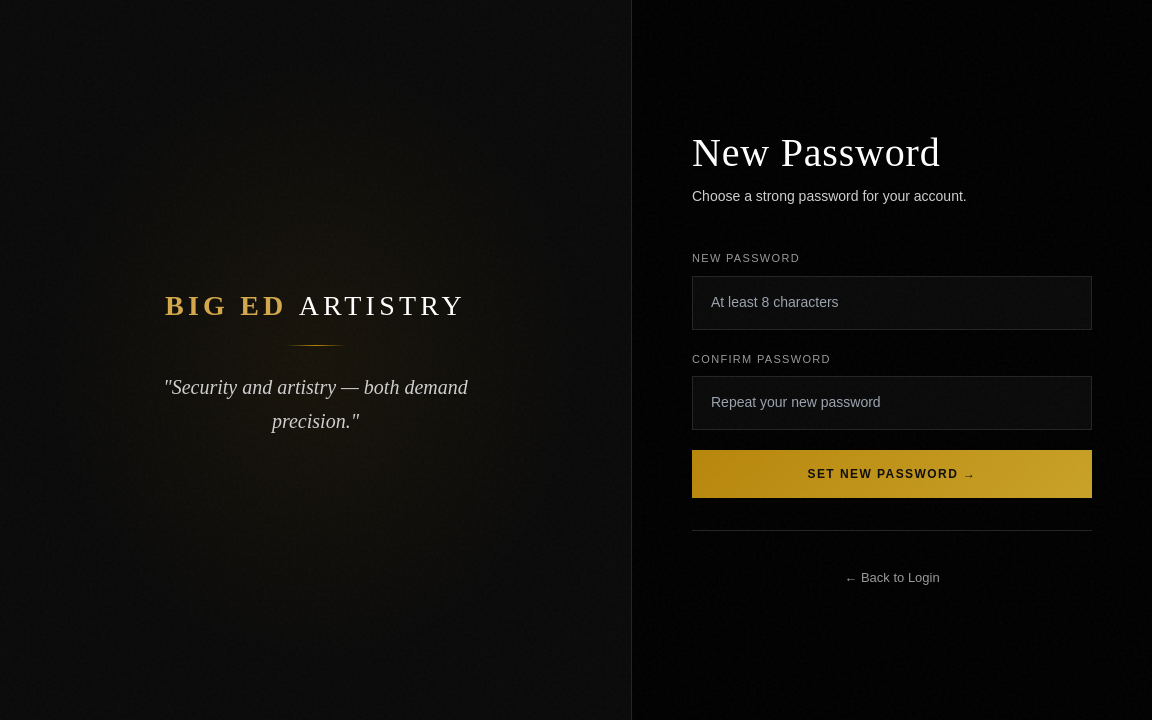
Test: password reset form › shows error when submitting empty fields
Expected: the password field with placeholder "At least 8 characters" is shown, [692,276,1092,330]
Click the button "Set New Password →" at (892, 474), box [692,450,1092,498]
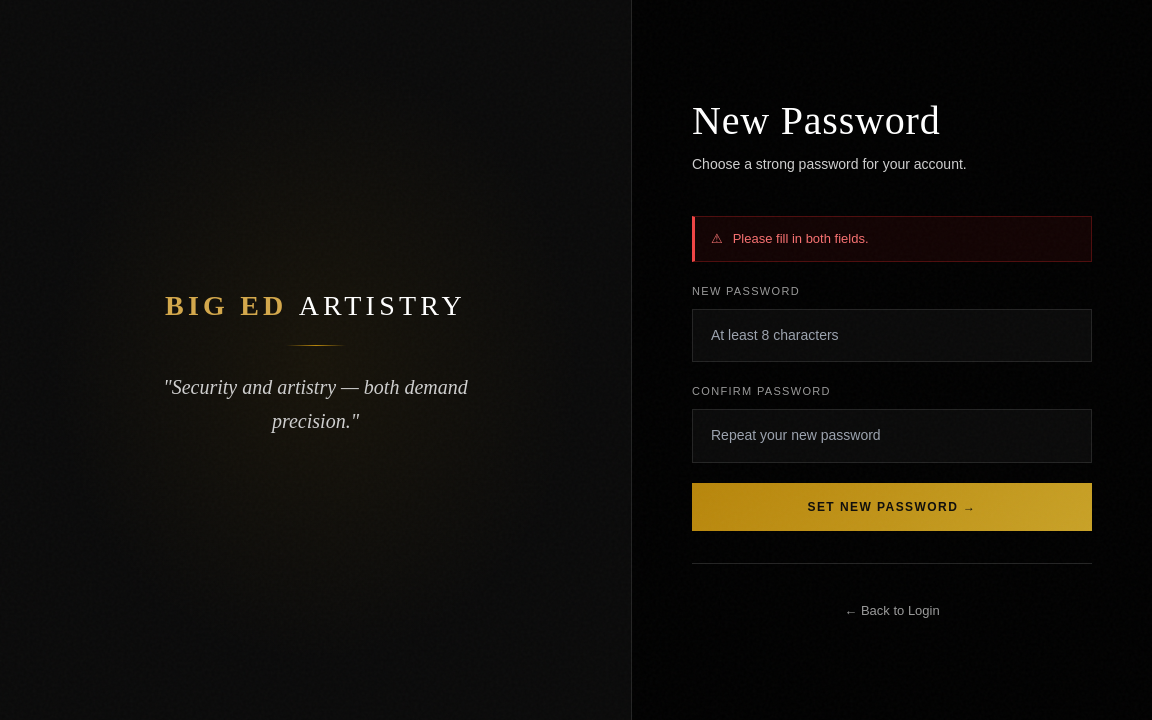
Expected: the text "Please fill in both fields." is shown, [733,229,869,249]
